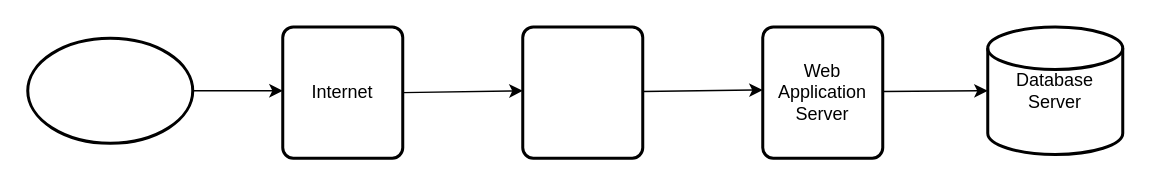
Some shapes in this 1149 by 186 pixel diagram are drawn without their labels. The shapes that lost their labels are listed below. From the top down, each one's centre as x and y in pixels, then its label:
the point at 110,90: User Devices (Patients and Doctors)
the point at 582,92: Firewall
